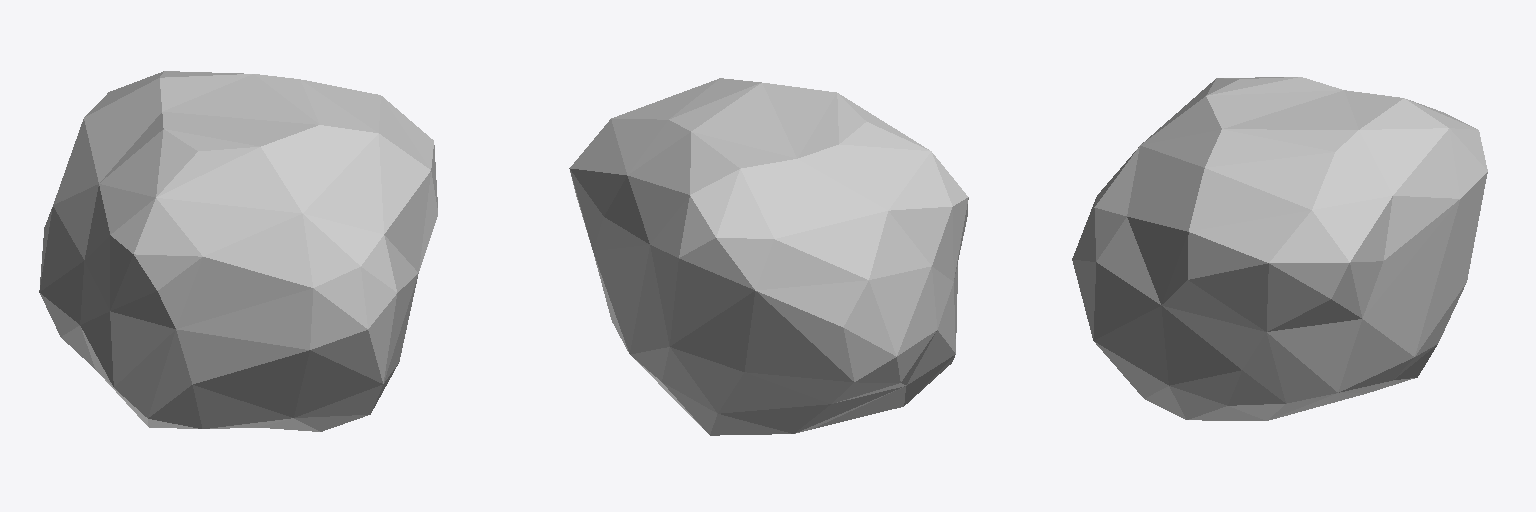
Rendered from asteroid.obj.
3 views of the same model, side by side, from view 1: azimuth 30°, elevation 25°; view 2: azimuth 150°, elevation 25°; view 3: azimuth 270°, elevation 25° (orthographic).
Visible parts, largest first — view 1: Asteroid_Icosphere; view 2: Asteroid_Icosphere; view 3: Asteroid_Icosphere.
Part boxes in pixels (x1,y1,x2,y2): Asteroid_Icosphere: (39, 71, 437, 431); Asteroid_Icosphere: (569, 78, 968, 435); Asteroid_Icosphere: (1072, 77, 1487, 420).
Size of the model in its own units: 1.04 by 0.8294 by 1.08.